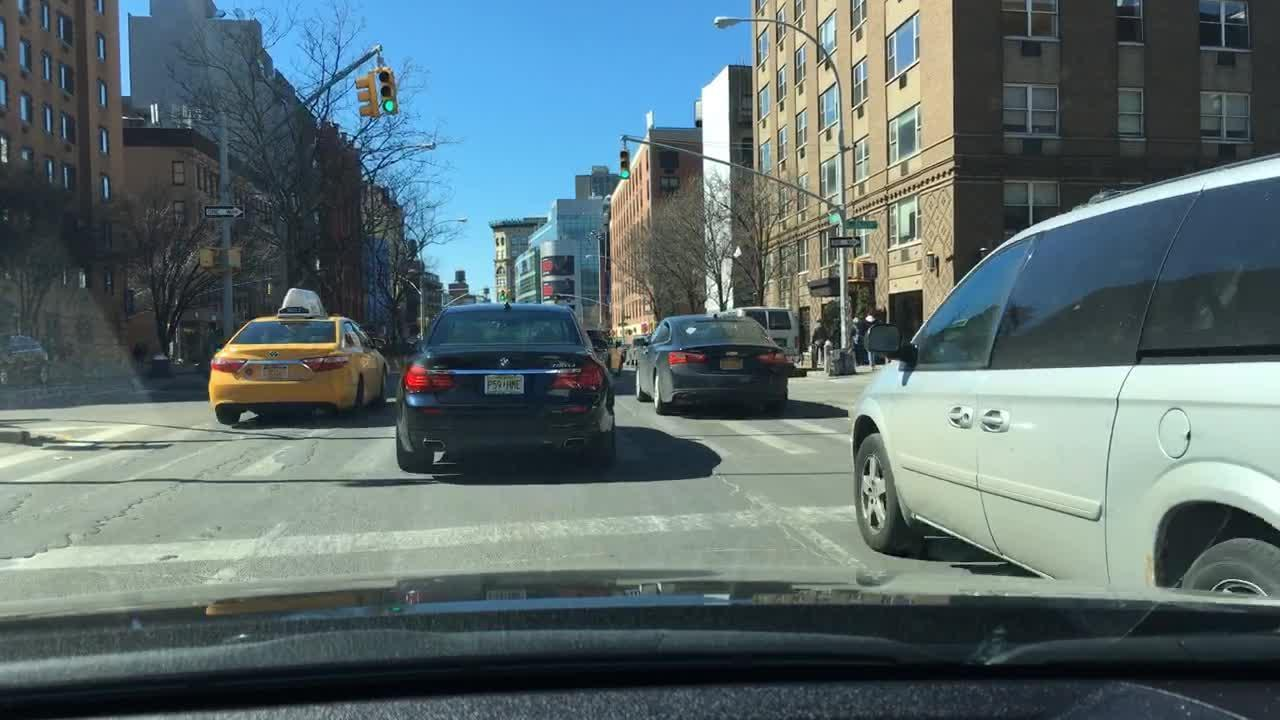bmw: (494, 348, 517, 374)
